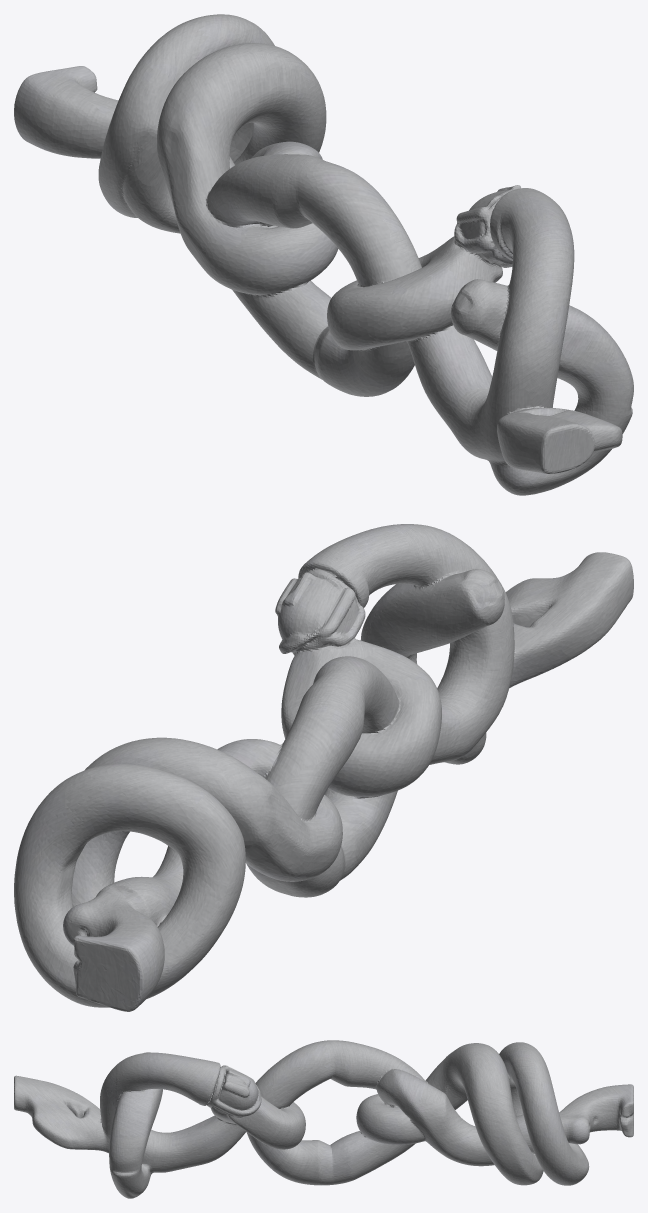
File: DON3.glb
The picture shows the model from 3 angles, top to bottom: view 1: azimuth 30°, elevation 25°; view 2: azimuth 150°, elevation 25°; view 3: azimuth 270°, elevation 25°; orthographic projection. The views are drawn at different scales.
Parts seen in each view (by area): view 1: tripo_node_b3f1977c-f42d-464a-8791-a19dc2e0fd61; view 2: tripo_node_b3f1977c-f42d-464a-8791-a19dc2e0fd61; view 3: tripo_node_b3f1977c-f42d-464a-8791-a19dc2e0fd61.
Part boxes in pixels (<box>): tripo_node_b3f1977c-f42d-464a-8791-a19dc2e0fd61: <box>14,14,633,495</box>; tripo_node_b3f1977c-f42d-464a-8791-a19dc2e0fd61: <box>14,524,633,1011</box>; tripo_node_b3f1977c-f42d-464a-8791-a19dc2e0fd61: <box>14,1040,633,1198</box>.
Size of the model in its own units: 0.6897 by 0.8224 by 3.12.
1 material, 1 textured.
